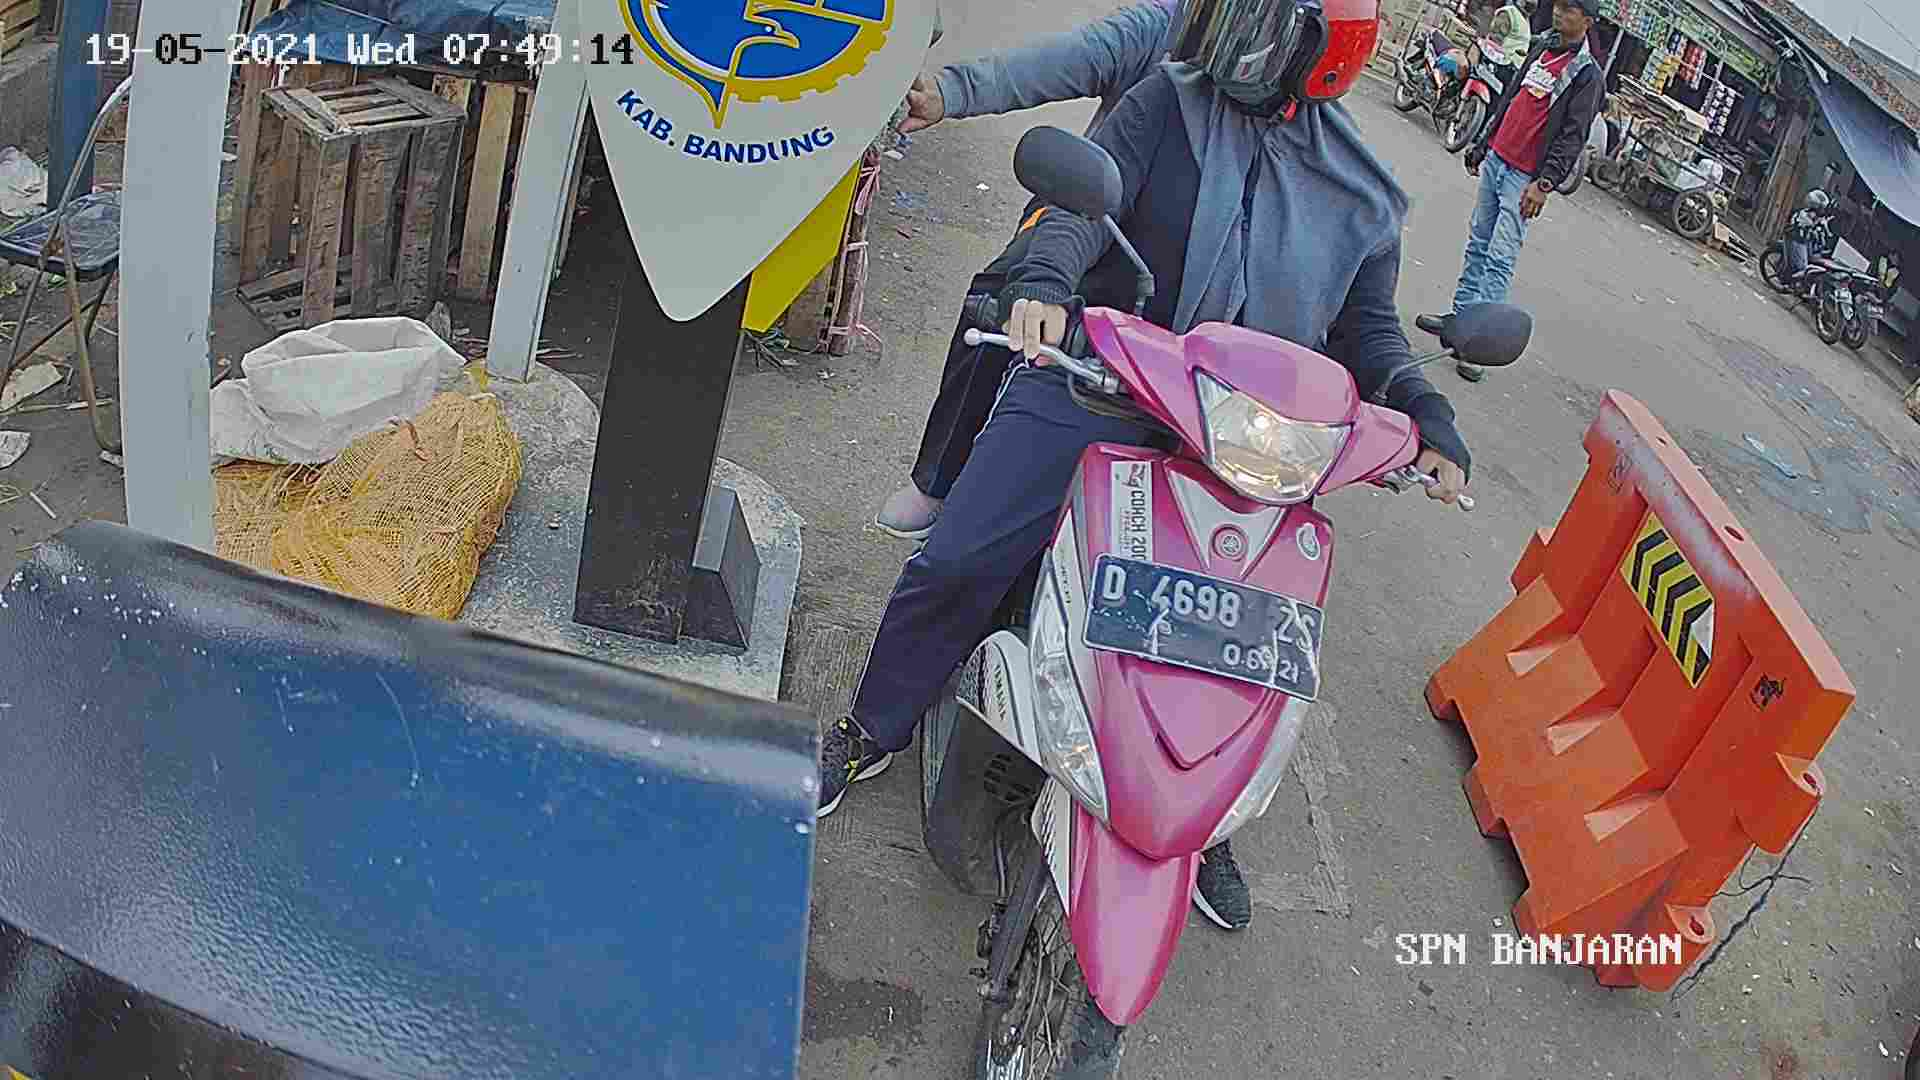motor: (913, 324, 1337, 1080)
